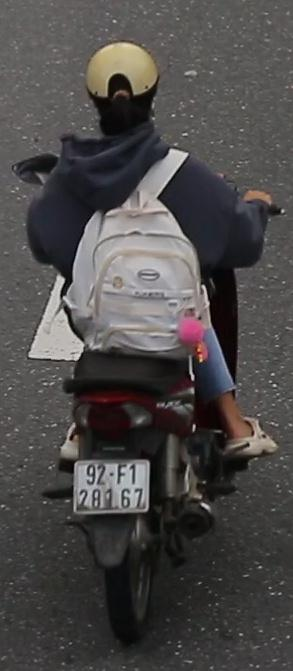LP: (66, 450, 155, 520)
helmet: (72, 37, 181, 154)
